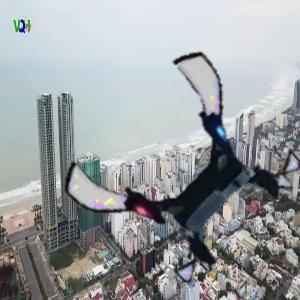drone: (81, 73, 283, 275)
